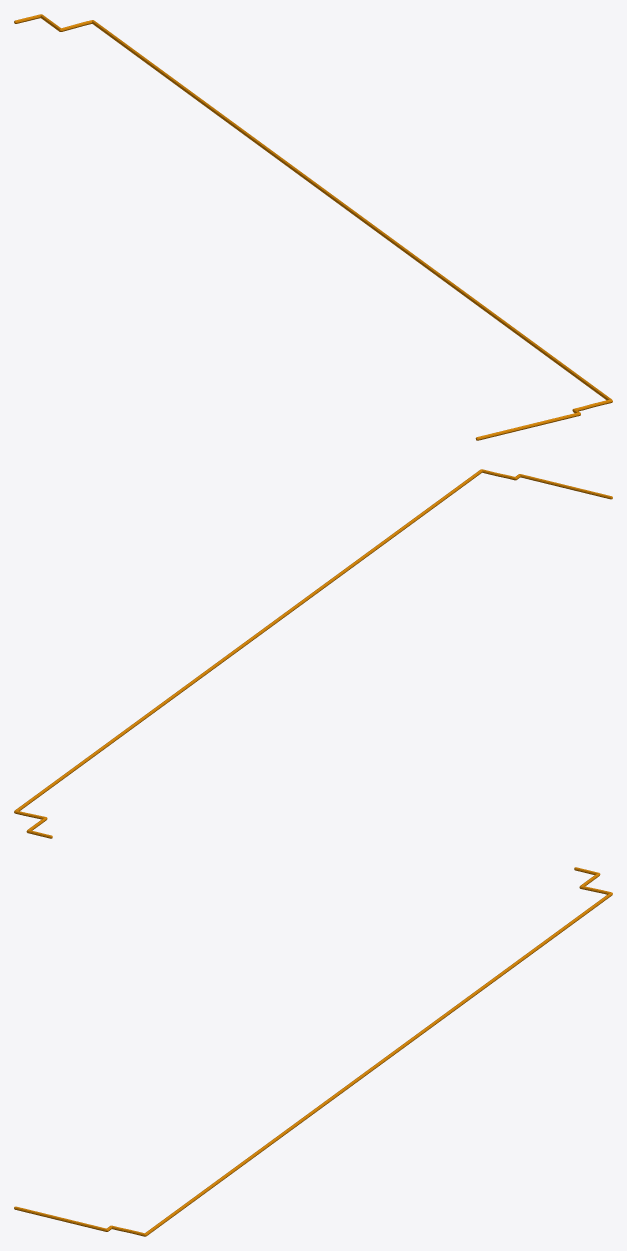
3 renders of one model, top to bottom at view 1: azimuth 30°, elevation 25°; view 2: azimuth 150°, elevation 25°; view 3: azimuth 330°, elevation 25°, orthographic. The views are drawn at different scales.
Bounding box in the file's own units: 839 × 20 × 5566.
